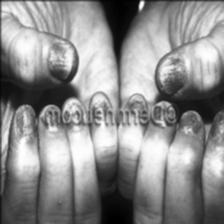Non-Cancerous Skin Condition: (2, 94, 106, 130), (142, 45, 195, 104), (170, 103, 224, 149), (44, 39, 89, 83)
